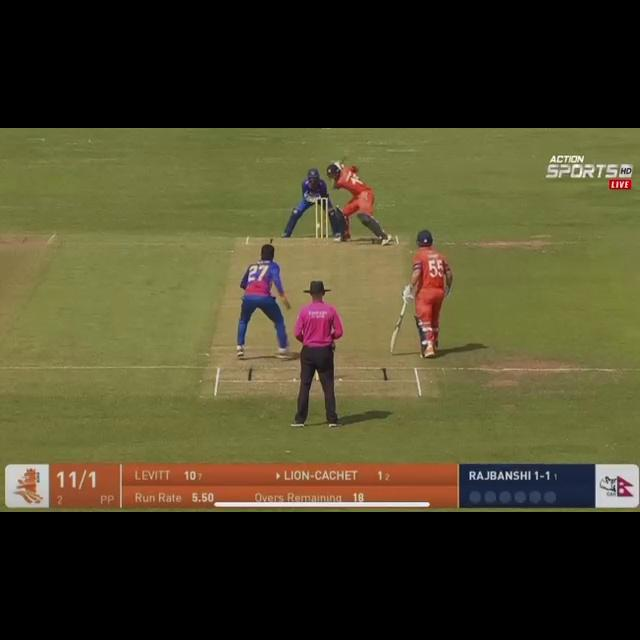umpire: (289, 277, 347, 435)
